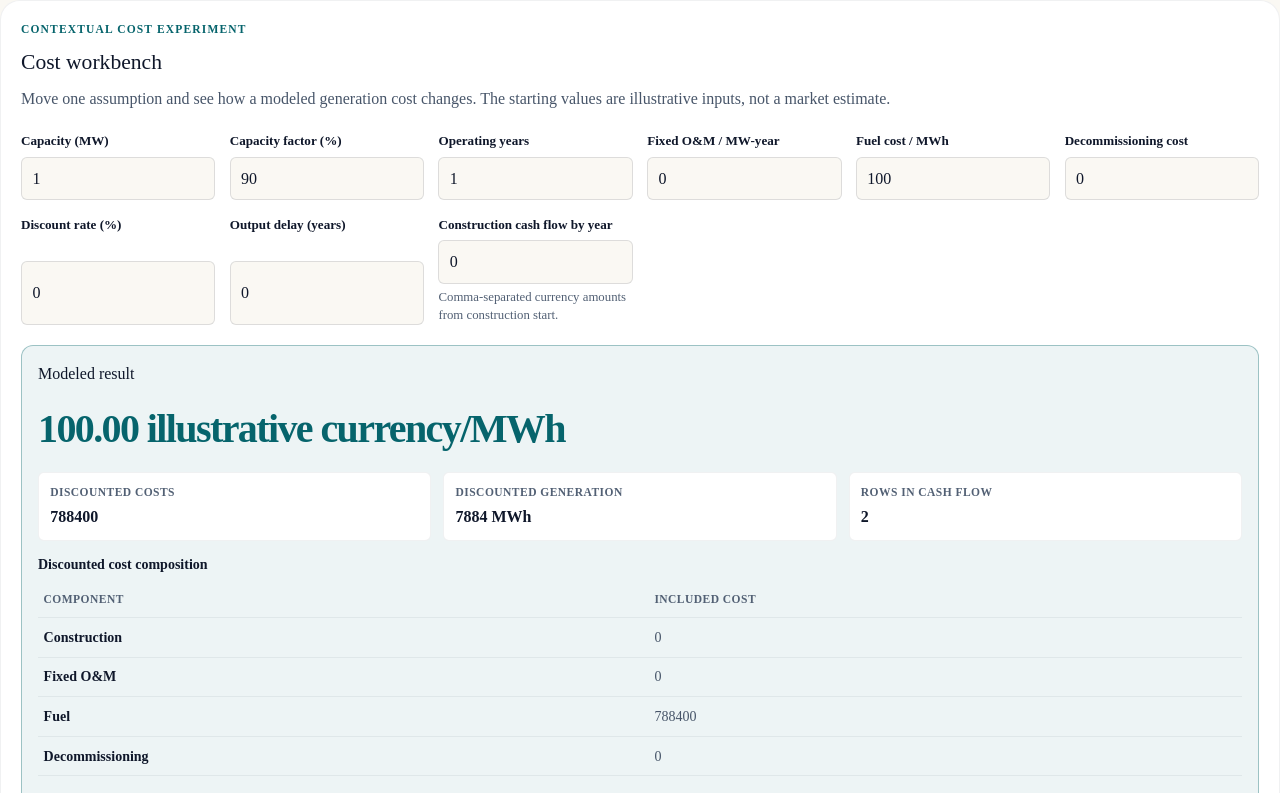
Test: CostWorkbench › keeps a zero-output scenario explicitly unavailable
Replace the text in the number field labelled "Capacity (MW)" with "0" at {"x": 118, "y": 178}, box [21,157,215,200]
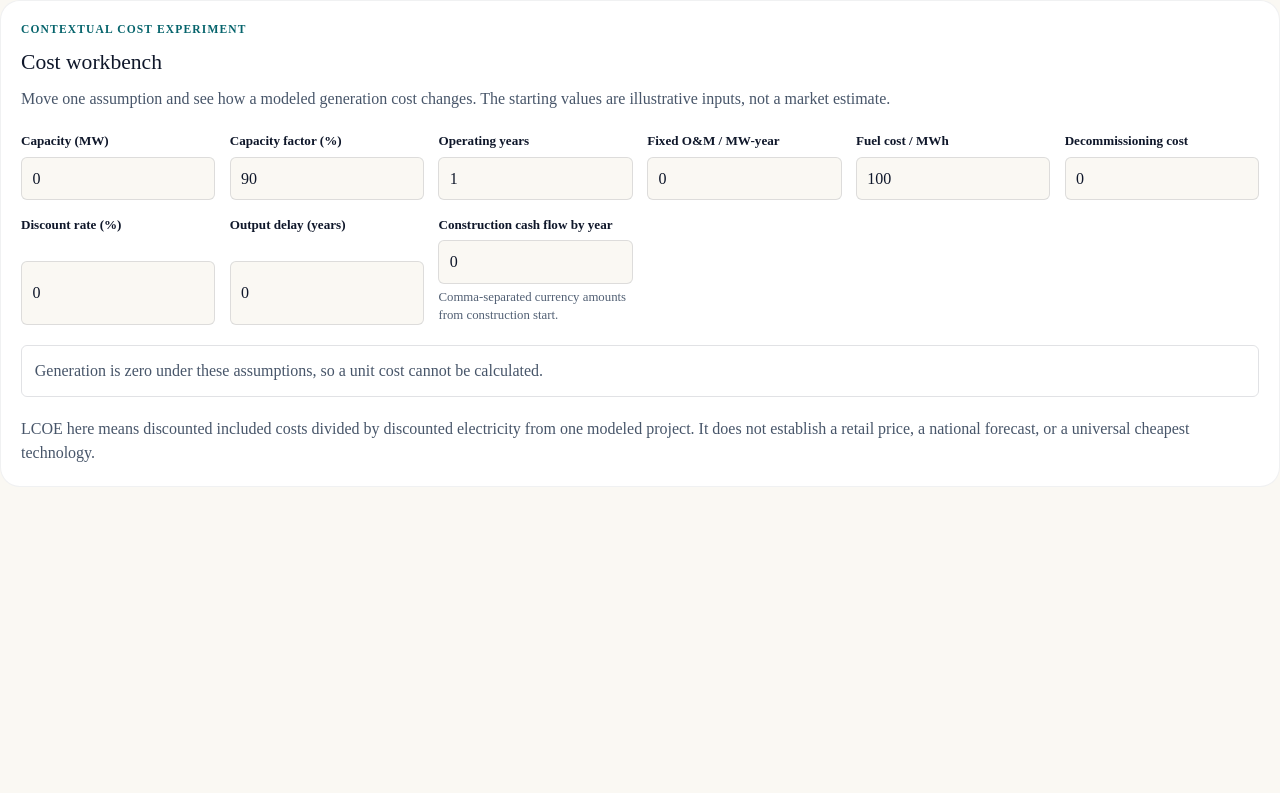
Expected: the message shows "Generation is zero", [35,362,543,379]
